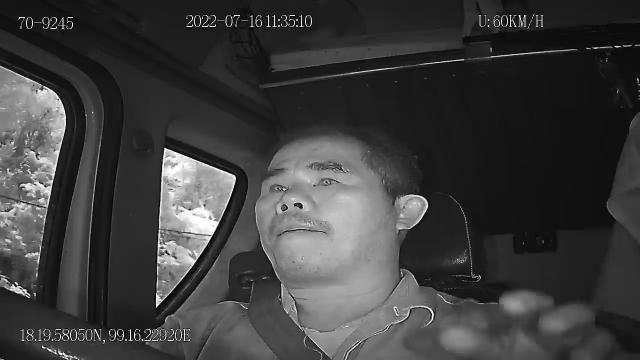SafeDriving: (304, 163, 352, 191), (262, 176, 294, 197)
Seatbelt: (240, 276, 338, 360)
